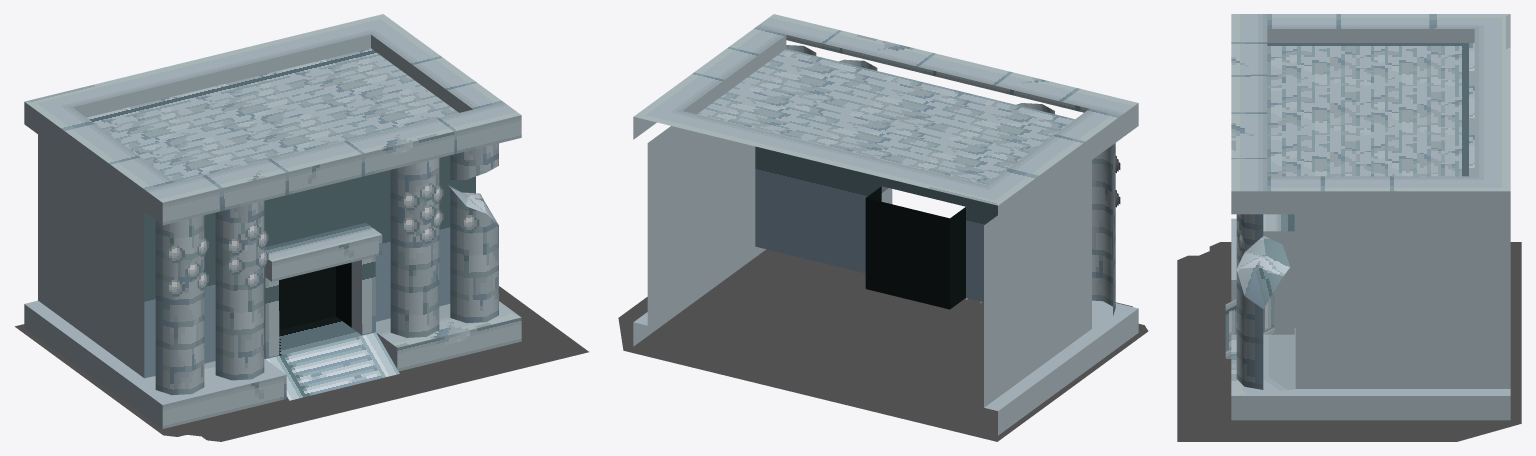
File: modelo.obj
The picture shows the model from 3 angles, left to right: view 1: azimuth 30°, elevation 25°; view 2: azimuth 150°, elevation 25°; view 3: azimuth 270°, elevation 25°; orthographic projection.
Parts seen in each view (by area): view 1: polygon3, polygon2, polygon1, polygon0; view 2: polygon2, polygon3, polygon0, polygon1; view 3: polygon3, polygon2, polygon0, polygon1.
Part boxes in pixels (box(x1,y1,x2,y2)): polygon3: box(24, 14, 521, 323); polygon2: box(24, 134, 521, 428); polygon1: box(155, 143, 498, 395); polygon0: box(14, 286, 588, 441); polygon2: box(633, 126, 1138, 435); polygon3: box(633, 14, 1138, 228); polygon0: box(618, 249, 1148, 441); polygon1: box(786, 45, 1120, 315); polygon3: box(1231, 14, 1510, 389); polygon2: box(1225, 214, 1510, 420); polygon0: box(1177, 242, 1521, 441); polygon1: box(1236, 214, 1263, 268).
Size of the model in its own units: 176 by 94.5 by 128.
4 materials, 4 textured.
